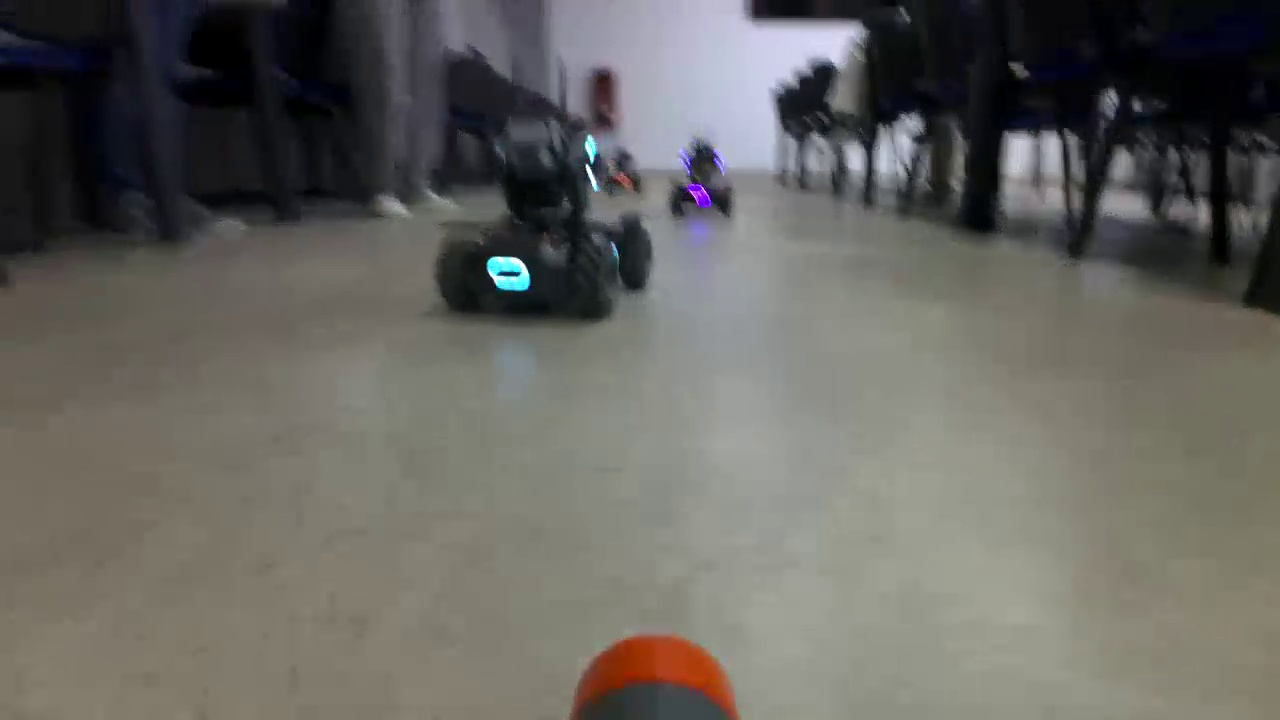robot: (432, 120, 652, 315), (665, 140, 735, 225), (590, 150, 648, 210)
